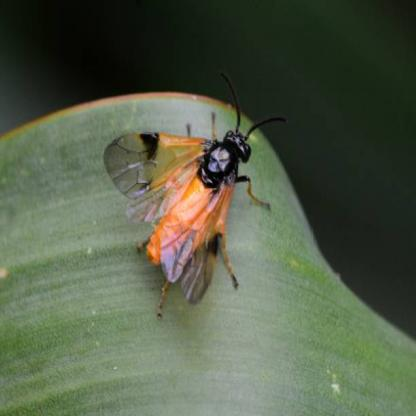sawfly: (102, 70, 290, 322)
